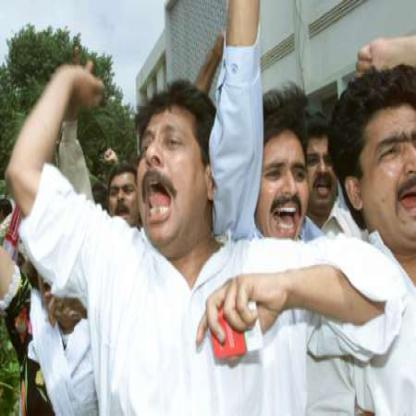face: (133, 90, 211, 251), (251, 114, 314, 251), (301, 121, 341, 212), (109, 166, 141, 232)
